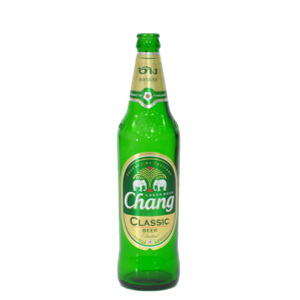glass_bottle: (113, 25, 184, 295)
